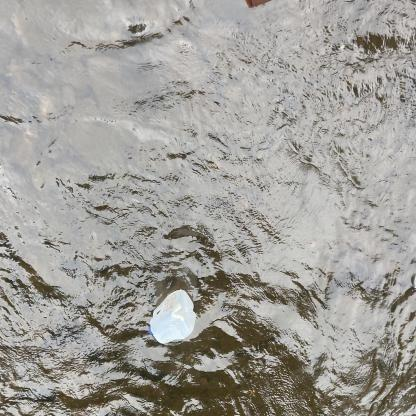Plastic: (141, 282, 203, 351)
